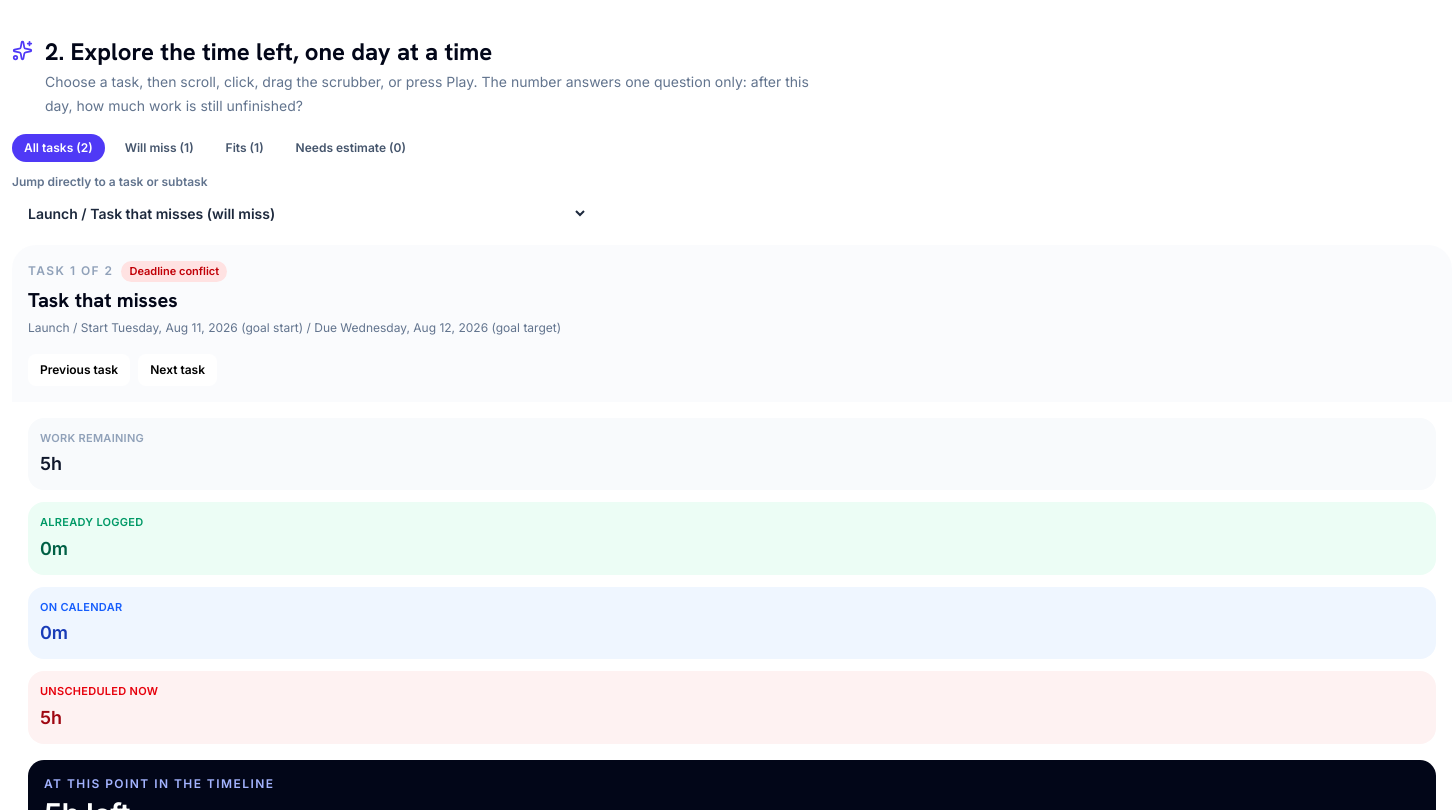
Test: InteractiveTaskTimeline › filters to tasks that fit
Click the button "Fits (1)" at (245, 148), box [214, 134, 276, 162]
(page scrolled)
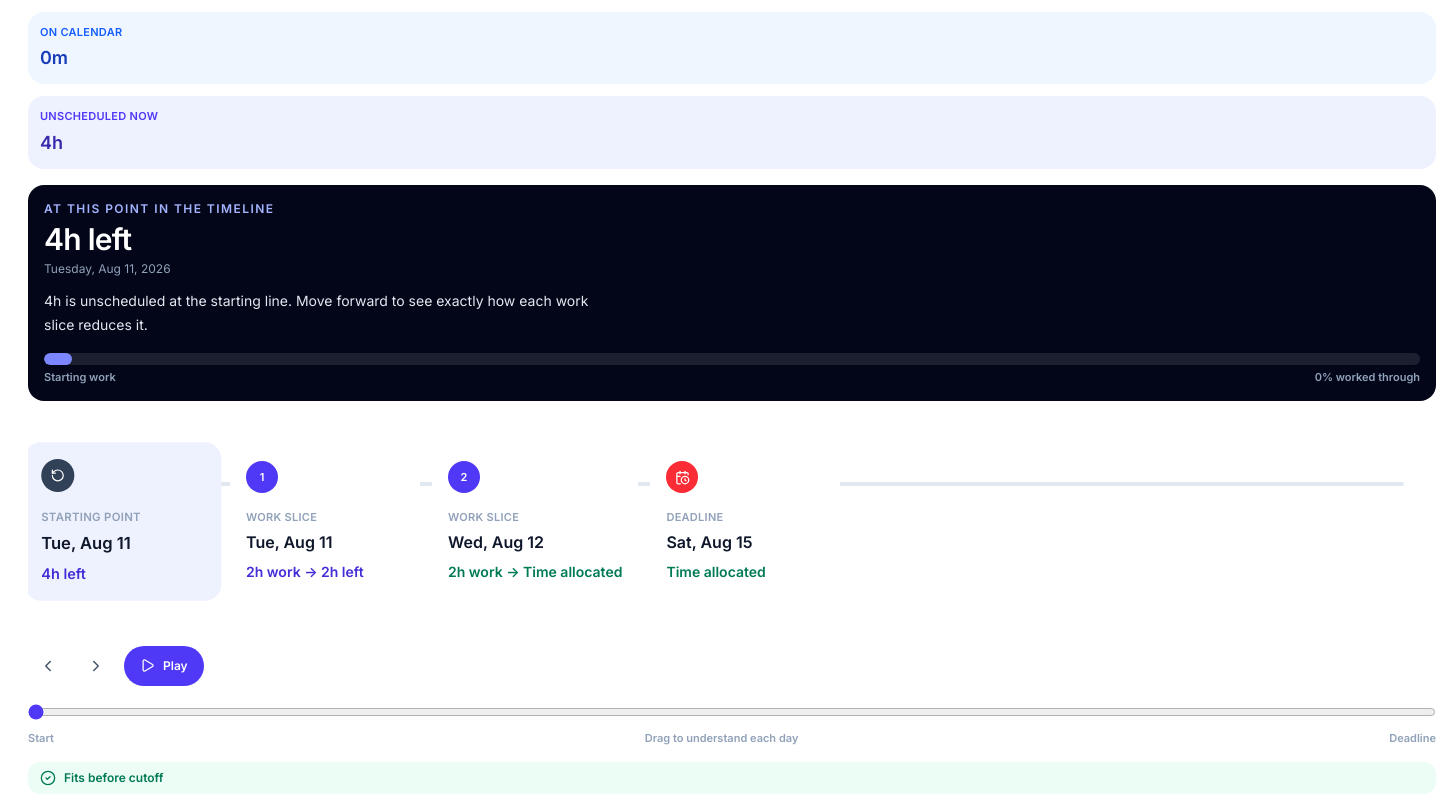
Expected: the text "Fits before cutoff" is shown, [28, 762, 1436, 794]
